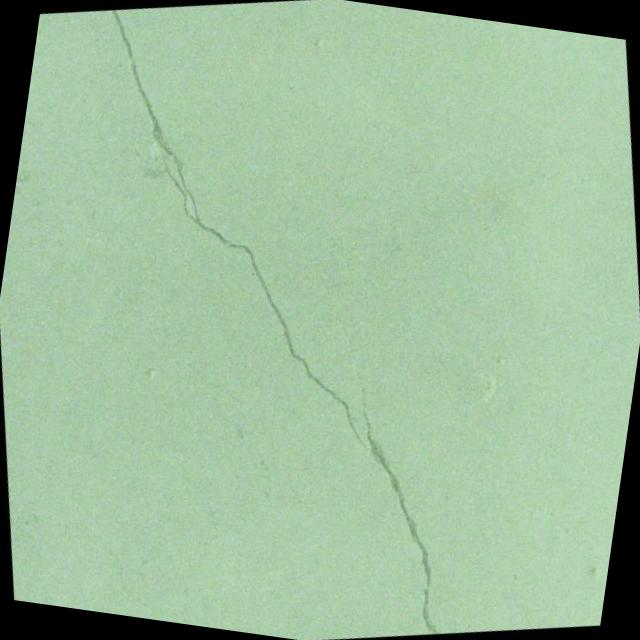crack: (28, 0, 525, 640)
